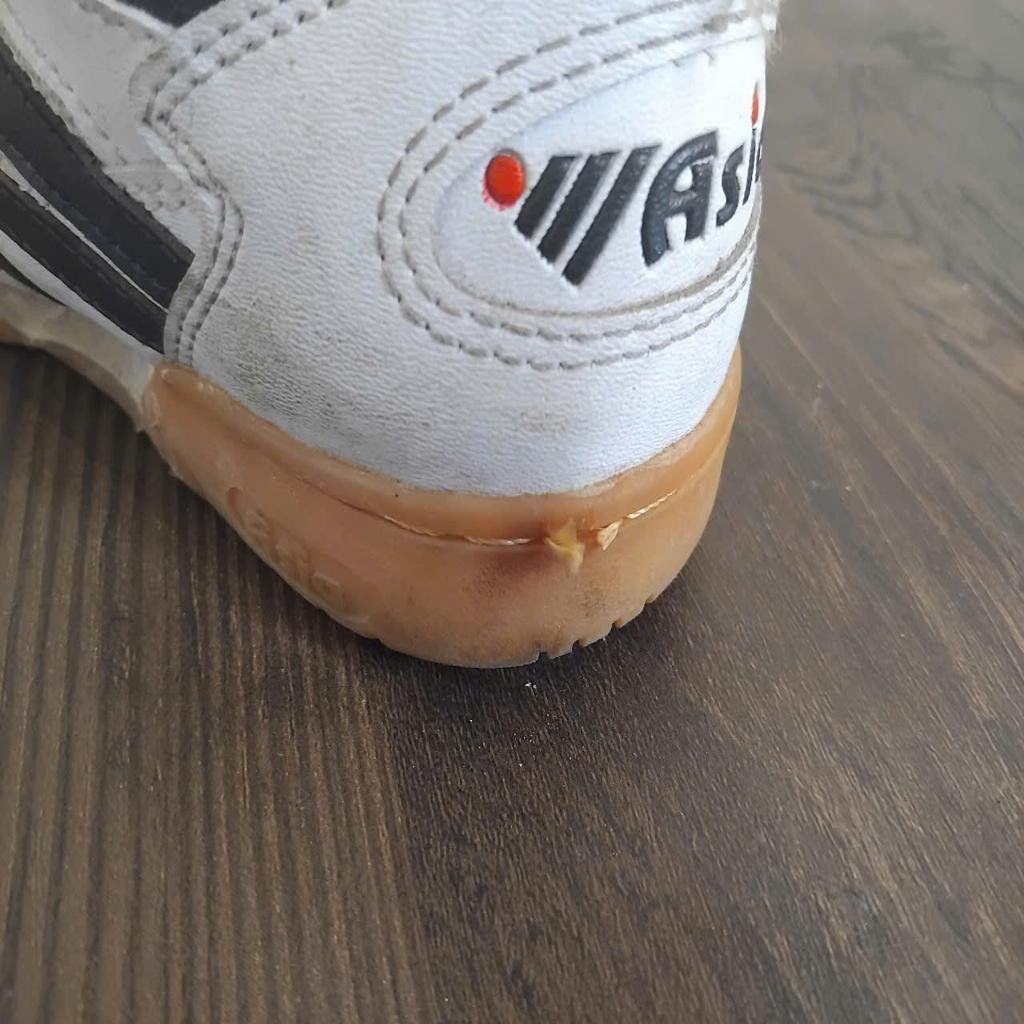broken: (540, 513, 638, 561)
